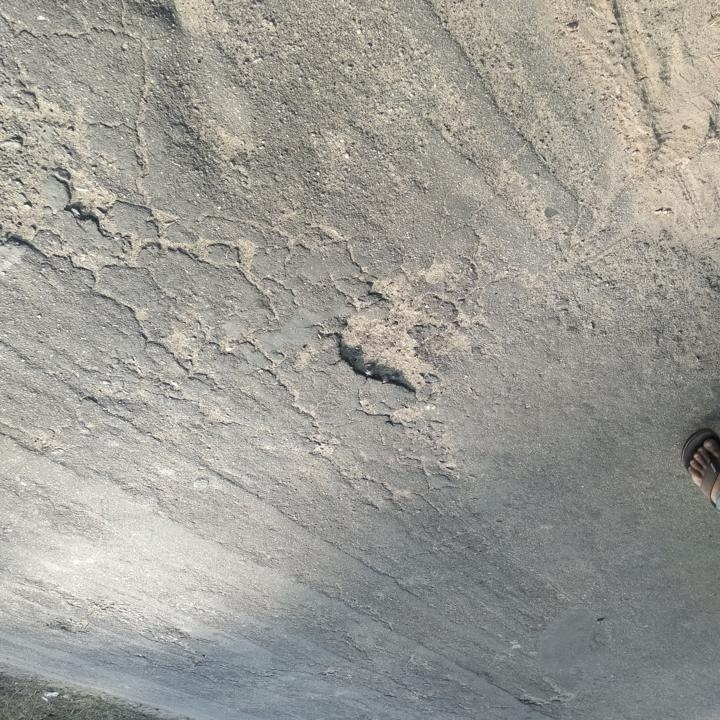pothole: (333, 284, 442, 397), (59, 166, 119, 223)
